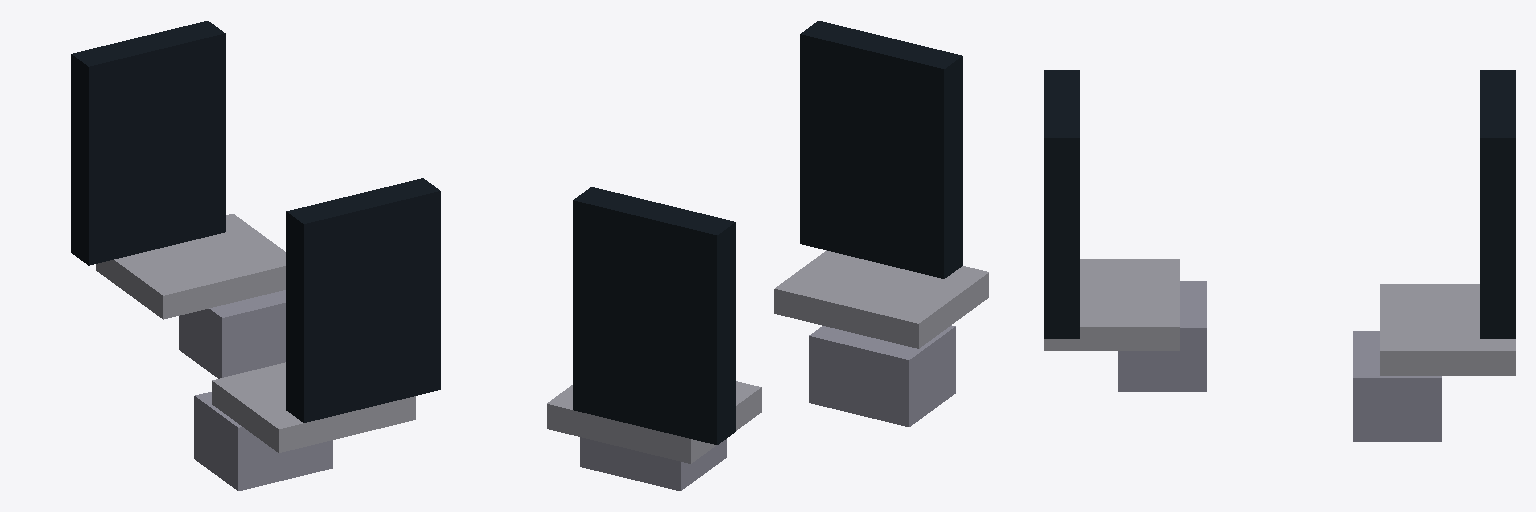
URDF robot description (pgc140_offset_fingers):
<?xml version='1.0' encoding='utf-8'?>
<robot name="pgc140_offset_fingers">
  <link name="pgc140_base_link">
    <inertial>
      <origin xyz="-3.9257E-06 -0.00027208 0.037806" rpy="0 0 0" />
      <mass value="0.971444" />
      <inertia ixx="0.0010404189268150735" ixy="-2.0598626914593337e-07" ixz="-1.4181697247781175e-07" iyy="0.0009444476659391823" iyz="-7.480387349919977e-06" izz="0.0006302159911537902" />
    </inertial>
    <visual>
      <origin xyz="0 0 0" rpy="0 0 0" />
      <geometry>
        <mesh filename="/workspaces/isaaclab_arena/examples/examples_teleop/assets/abb_irb1200_pgc140/vendor/meshes/base_link.STL" />
      </geometry>
      <material name="pgc140_base_link_material">
        <color rgba="1 1 1 1" />
      </material>
    </visual>
    <collision>
      <origin xyz="0 0 0" rpy="0 0 0" />
      <geometry>
        <mesh filename="/workspaces/isaaclab_arena/examples/examples_teleop/assets/abb_irb1200_pgc140/vendor/meshes/base_link.STL" />
      </geometry>
    </collision>
  </link>
  <link name="pgc140_finger1_link">
    <inertial>
      <origin xyz="0.0030491 -0.0066024 0.0064209" rpy="0 0 0" />
      <mass value="0.014278" />
      <inertia ixx="1.7567E-06" ixy="-5.7832E-08" ixz="2.6803E-08" iyy="2.3034E-06" iyz="2.2145E-07" izz="1.3354E-06" />
    </inertial>
    <visual name="carriage1">
      <origin xyz="0 0 -0.002" rpy="0.0 0.0 0.0" />
      <geometry>
        <box size="0.02 0.025 0.016" />
      </geometry>
      <material name="carriage1_material">
        <color rgba="0.6 0.6 0.65 1" />
      </material>
    </visual>
    <collision name="carriage1">
      <origin xyz="0 0 -0.002" rpy="0.0 0.0 0.0" />
      <geometry>
        <box size="0.02 0.025 0.016" />
      </geometry>
    </collision>
  </link>
  <joint name="pgc140_finger1_joint" type="prismatic">
    <origin xyz="0.0132 0.0265 0.093" rpy="0 0 -1.5707963267948966" />
    <parent link="pgc140_base_link" />
    <child link="pgc140_finger1_link" />
    <axis xyz="1 0 0" />
    <limit lower="0" upper="0.025" effort="140" velocity="0.0333333333" />
  </joint>
  <link name="pgc140_finger2_link">
    <inertial>
      <origin xyz="0.0030491 -0.0066024 0.0064209" rpy="0 0 0" />
      <mass value="0.014278" />
      <inertia ixx="1.7567E-06" ixy="-5.7832E-08" ixz="2.6803E-08" iyy="2.3034E-06" iyz="2.2145E-07" izz="1.3354E-06" />
    </inertial>
    <visual name="carriage2">
      <origin xyz="0 0 -0.002" rpy="0.0 0.0 0.0" />
      <geometry>
        <box size="0.02 0.025 0.016" />
      </geometry>
      <material name="carriage2_material">
        <color rgba="0.6 0.6 0.65 1" />
      </material>
    </visual>
    <collision name="carriage2">
      <origin xyz="0 0 -0.002" rpy="0.0 0.0 0.0" />
      <geometry>
        <box size="0.02 0.025 0.016" />
      </geometry>
    </collision>
  </link>
  <joint name="pgc140_finger2_joint" type="prismatic">
    <origin xyz="-0.0132 -0.0265 0.093" rpy="0 0 1.5707963267948966" />
    <parent link="pgc140_base_link" />
    <child link="pgc140_finger2_link" />
    <axis xyz="1 0 0" />
    <limit lower="0" upper="0.025" effort="140" velocity="0.0333333333" />
  </joint>
  <link name="pgc140_pad1">
    <inertial>
      <origin xyz="0.0 0.0 -0.01" rpy="0.0 0.0 0.0" />
      <mass value="0.04" />
      <inertia ixx="0.000014" ixy="0" ixz="0" iyy="0.000010" iyz="0" izz="0.000007" />
    </inertial>
    <visual name="pad1_rubber">
      <origin xyz="0 0 0" rpy="0.0 0.0 0.0" />
      <geometry>
        <box size="0.008 0.036 0.05" />
      </geometry>
      <material name="pad1_rubber_material">
        <color rgba="0.12 0.15 0.18 1" />
      </material>
    </visual>
    <collision name="pad1_rubber">
      <origin xyz="0 0 0" rpy="0.0 0.0 0.0" />
      <geometry>
        <box size="0.008 0.036 0.05" />
      </geometry>
    </collision>
    <visual name="pad1_bracket">
      <origin xyz="0.01125 0.0066 -0.028" rpy="0.0 0.0 0.0" />
      <geometry>
        <box size="0.0305 0.036 0.006" />
      </geometry>
      <material name="pad1_bracket_material">
        <color rgba="0.65 0.65 0.68 1" />
      </material>
    </visual>
    <collision name="pad1_bracket">
      <origin xyz="0.01125 0.0066 -0.028" rpy="0.0 0.0 0.0" />
      <geometry>
        <box size="0.0305 0.036 0.006" />
      </geometry>
    </collision>
  </link>
  <joint name="pgc140_pad1_mount" type="fixed">
    <origin xyz="-0.0225 -0.0132 0.037" rpy="0.0 0.0 0.0" />
    <parent link="pgc140_finger1_link" />
    <child link="pgc140_pad1" />
  </joint>
  <link name="pgc140_pad2">
    <inertial>
      <origin xyz="0.0 0.0 -0.01" rpy="0.0 0.0 0.0" />
      <mass value="0.04" />
      <inertia ixx="0.000014" ixy="0" ixz="0" iyy="0.000010" iyz="0" izz="0.000007" />
    </inertial>
    <visual name="pad2_rubber">
      <origin xyz="0 0 0" rpy="0.0 0.0 0.0" />
      <geometry>
        <box size="0.008 0.036 0.05" />
      </geometry>
      <material name="pad2_rubber_material">
        <color rgba="0.12 0.15 0.18 1" />
      </material>
    </visual>
    <collision name="pad2_rubber">
      <origin xyz="0 0 0" rpy="0.0 0.0 0.0" />
      <geometry>
        <box size="0.008 0.036 0.05" />
      </geometry>
    </collision>
    <visual name="pad2_bracket">
      <origin xyz="0.01125 0.0066 -0.028" rpy="0.0 0.0 0.0" />
      <geometry>
        <box size="0.0305 0.036 0.006" />
      </geometry>
      <material name="pad2_bracket_material">
        <color rgba="0.65 0.65 0.68 1" />
      </material>
    </visual>
    <collision name="pad2_bracket">
      <origin xyz="0.01125 0.0066 -0.028" rpy="0.0 0.0 0.0" />
      <geometry>
        <box size="0.0305 0.036 0.006" />
      </geometry>
    </collision>
  </link>
  <joint name="pgc140_pad2_mount" type="fixed">
    <origin xyz="-0.0225 -0.0132 0.037" rpy="0.0 0.0 0.0" />
    <parent link="pgc140_finger2_link" />
    <child link="pgc140_pad2" />
  </joint>
</robot>

--- Facts derived from the render (not from the file) ---
Views: 3 orthographic renders of the robot side by side, from view 1: azimuth 30°, elevation 25°; view 2: azimuth 150°, elevation 25°; view 3: azimuth 270°, elevation 25°.
Robot: pgc140_offset_fingers — 5 links, 4 joints (2 prismatic, 2 fixed); root link pgc140_base_link; default pose: all joints at 0.
Links seen in each view (by area): view 1: pgc140_pad1, pgc140_pad2, pgc140_finger1_link, pgc140_finger2_link; view 2: pgc140_pad2, pgc140_pad1, pgc140_finger2_link, pgc140_finger1_link; view 3: pgc140_pad1, pgc140_pad2, pgc140_finger1_link, pgc140_finger2_link.
Link boxes in pixels (left/top/right/bottom): pgc140_pad1: left=71, top=21, right=285, bottom=319; pgc140_pad2: left=212, top=178, right=440, bottom=452; pgc140_finger1_link: left=179, top=290, right=285, bottom=378; pgc140_finger2_link: left=194, top=392, right=332, bottom=490; pgc140_pad2: left=774, top=21, right=988, bottom=348; pgc140_pad1: left=547, top=187, right=761, bottom=463; pgc140_finger2_link: left=809, top=325, right=955, bottom=426; pgc140_finger1_link: left=580, top=437, right=726, bottom=490; pgc140_pad1: left=1380, top=70, right=1515, bottom=375; pgc140_pad2: left=1044, top=70, right=1179, bottom=350; pgc140_finger1_link: left=1353, top=331, right=1441, bottom=441; pgc140_finger2_link: left=1118, top=281, right=1206, bottom=391.
Bounding box of the posed robot: 0.0514 × 0.106 × 0.072 m (x, y, z).
Geometry: only primitive shapes (box / cylinder / sphere) drawn; not drawn: 1 mesh visual (reference in a form the renderer does not follow).
